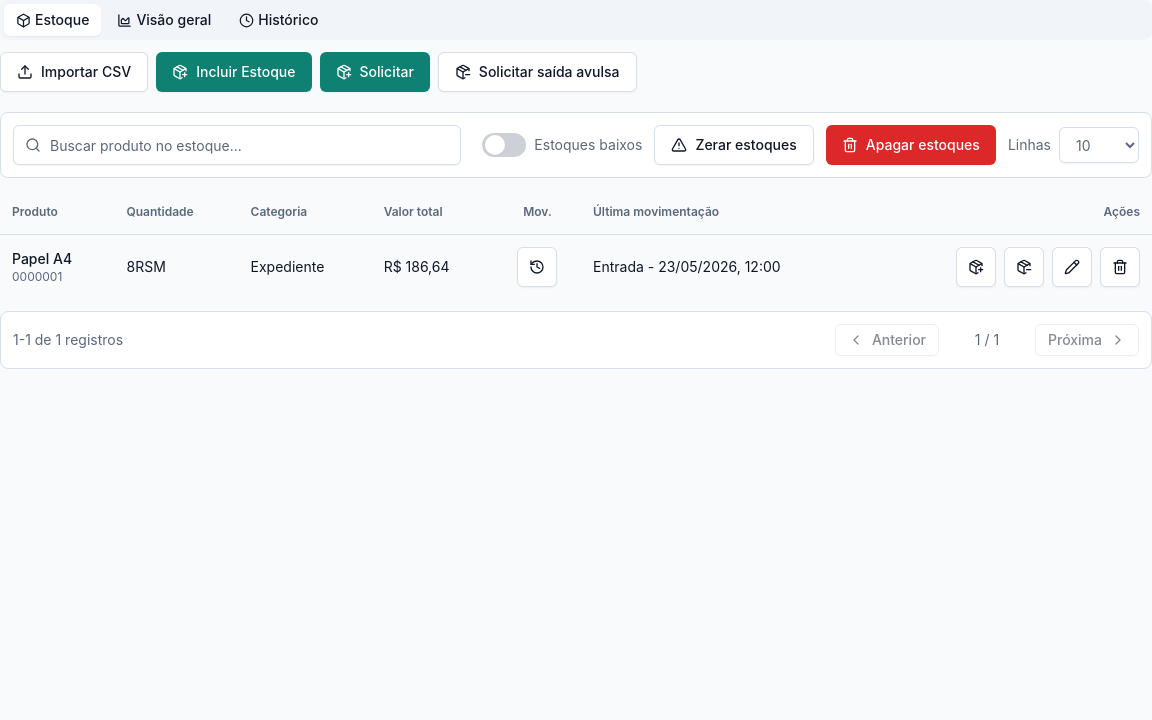
WarehouseTabs › offers a filtered movement export from the history tab
Click the tab "Histórico" at (279, 20), box [227, 4, 330, 36]
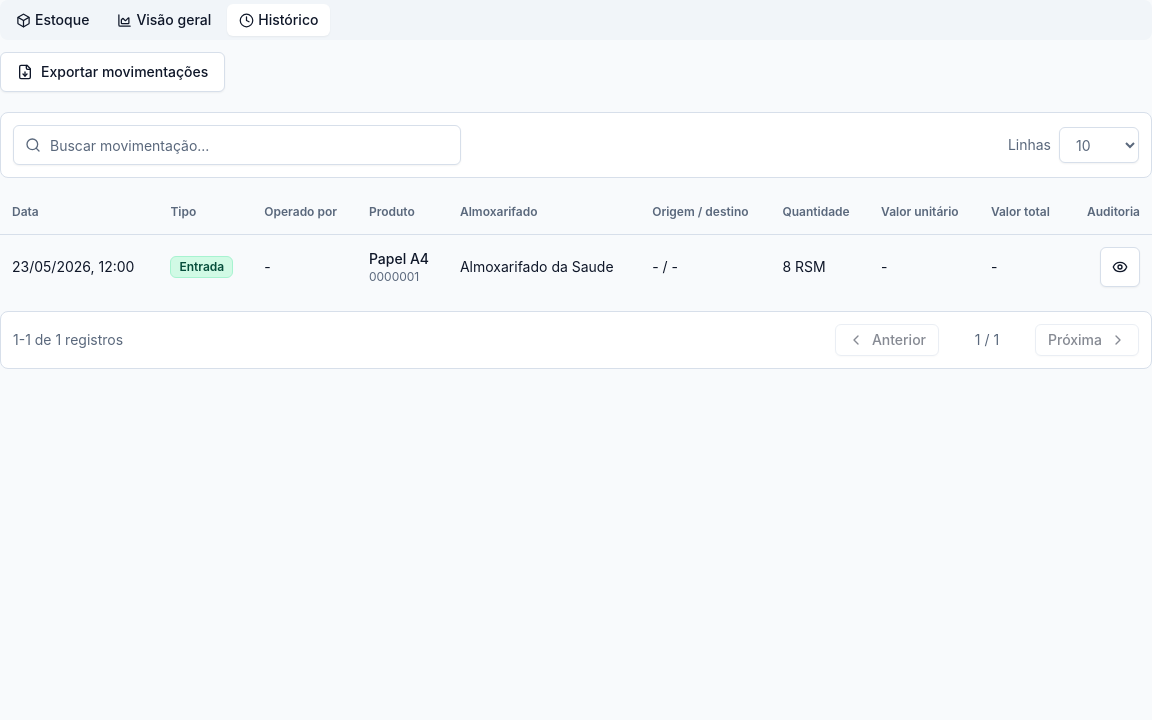
Click the button "Exportar movimentações" at (113, 72), box [0, 52, 225, 92]
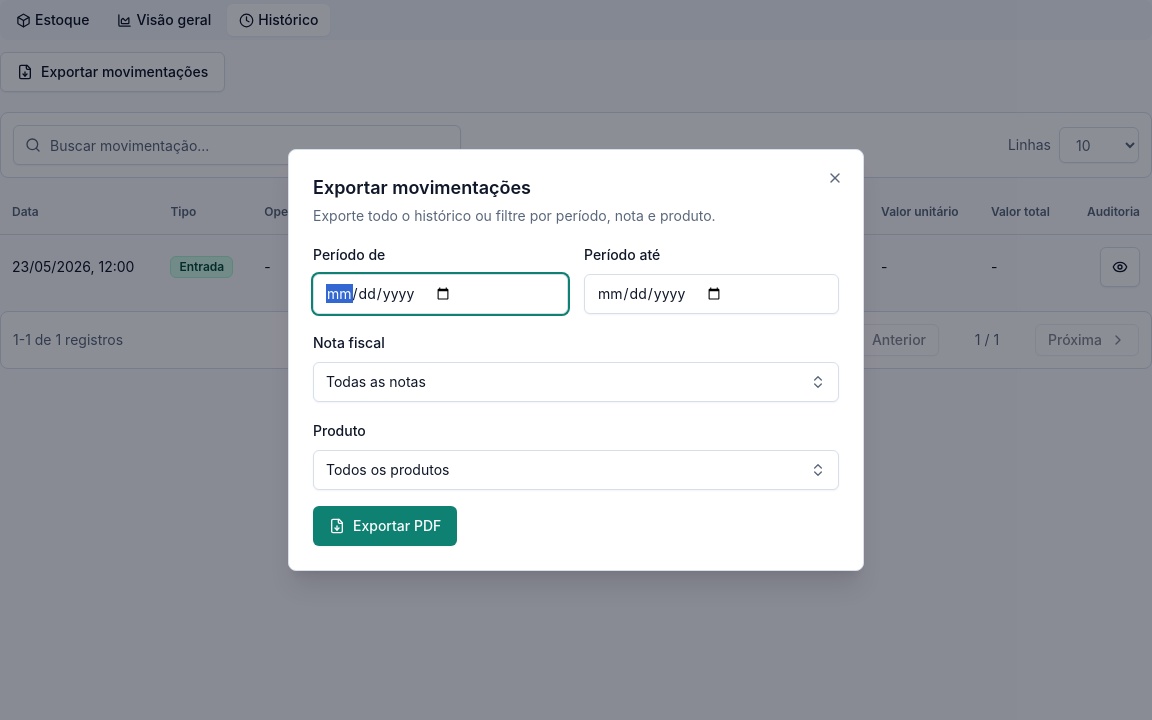
Expected: the dialog "Exportar movimentações" is shown, [288, 149, 864, 571]
Expected: the date field labelled "Período de" is shown, [313, 274, 568, 314]
Expected: the button with aria-label "Filtrar nota fiscal" reads "Todas as notas", [313, 362, 839, 402]
